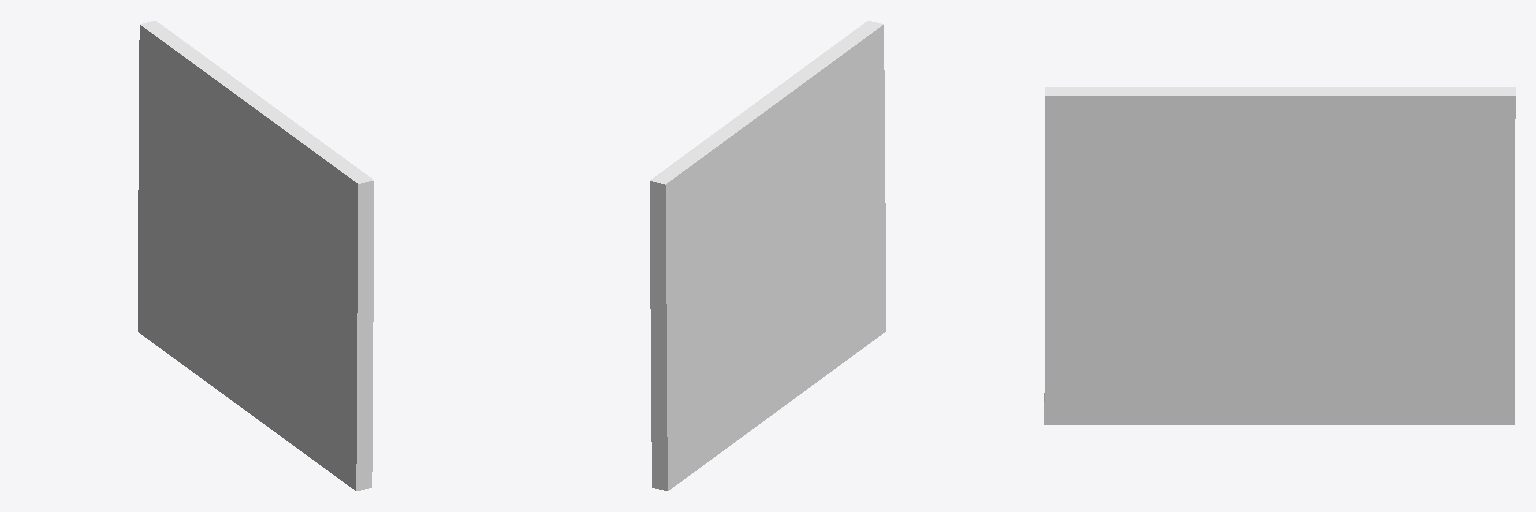
URDF robot description (board):
<?xml version="0.0" ?>
<robot name="board">
    <material name="white">
        <color rgba="1 1 1 1"/>
    </material>

    <link name="baseLink">
        <!-- from lego/lego.urdf -->
        <inertial>
            <origin rpy="0 0 0" xyz="0 0 0"/>
            <mass value="10.0"/>
            <inertia ixx="1" ixy="0" ixz="0" iyy="1" iyz="0" izz="1"/>
        </inertial>
        <visual>
            <origin rpy="1.57 0 0" xyz="0 0 0"/>
            <geometry>
                <!--        radius: 10mm, depth: 14.5mm-->
                <mesh filename="meshes/vertical_board.obj" scale="1 1 1"/>
                <!--        <box size="0.002 0.002 0.002"/>-->
            </geometry>
            <material name="white"/>
        </visual>
        <collision>
            <origin rpy="1.57 0 0" xyz="0 0 0"/>
            <geometry>
                <mesh filename="meshes/vertical_board.obj" scale="1 1 1"/>
                       <!-- <box size="2 2 2"/> -->
            </geometry>
        </collision>
    </link>
</robot>

--- Facts derived from the render (not from the file) ---
Views: 3 orthographic renders of the robot side by side, from view 1: azimuth 30°, elevation 25°; view 2: azimuth 150°, elevation 25°; view 3: azimuth 270°, elevation 25°.
Robot: board — 1 links, 0 joints (none); root link baseLink; default pose: every joint at zero.
Visible links, largest first — view 1: baseLink; view 2: baseLink; view 3: baseLink.
Link boxes in pixels (<box>): baseLink: <box>138,21,373,490</box>; baseLink: <box>650,21,885,490</box>; baseLink: <box>1044,87,1515,424</box>.
Size in the robot's own frame: 0.2398 by 4.98 by 3.85 metres.
Meshes: 1 distinct files referenced, 1 mesh visuals loaded (1 OBJ).